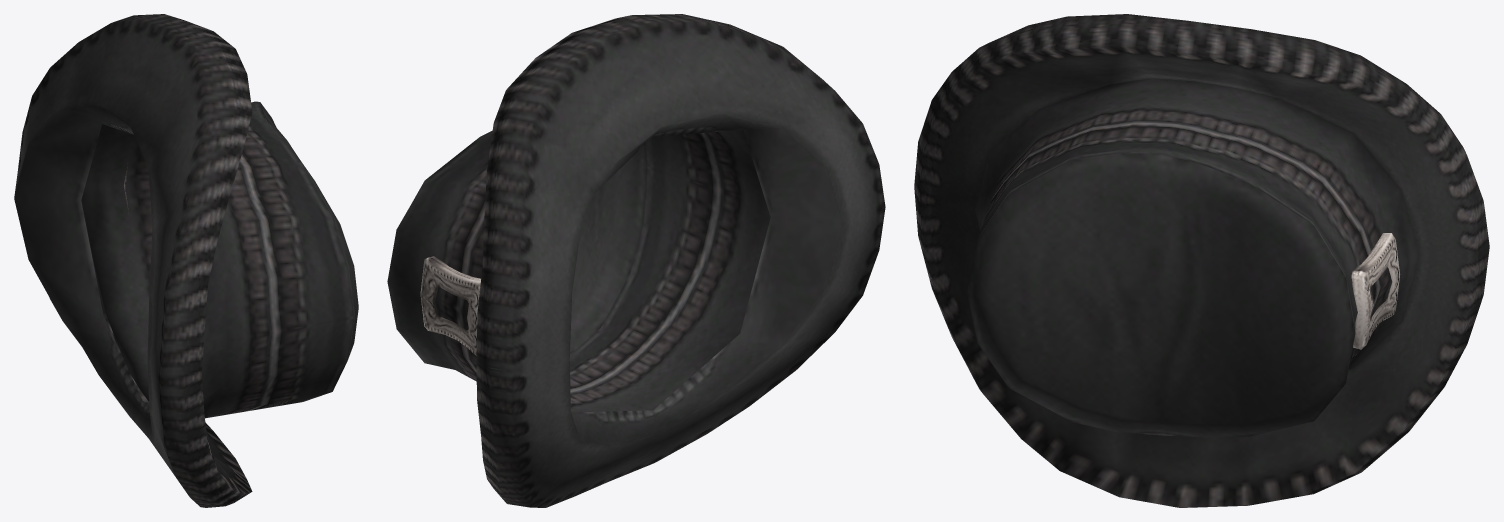
File: M_BuckleHat.fbx
3 views of the same model, side by side, from view 1: azimuth 30°, elevation 25°; view 2: azimuth 150°, elevation 25°; view 3: azimuth 270°, elevation 25° (orthographic). The views are drawn at different scales.
Visible parts, largest first — view 1: 24_hat_0.1_0_0.002; view 2: 24_hat_0.1_0_0.002; view 3: 24_hat_0.1_0_0.002.
Boxes of the visible parts, x1=… form: 24_hat_0.1_0_0.002: x1=14, y1=14, x2=358, y2=507; 24_hat_0.1_0_0.002: x1=387, y1=14, x2=885, y2=507; 24_hat_0.1_0_0.002: x1=914, y1=14, x2=1489, y2=507.
Size of the model in its own units: 0.1265 by 0.1771 by 0.1944.
